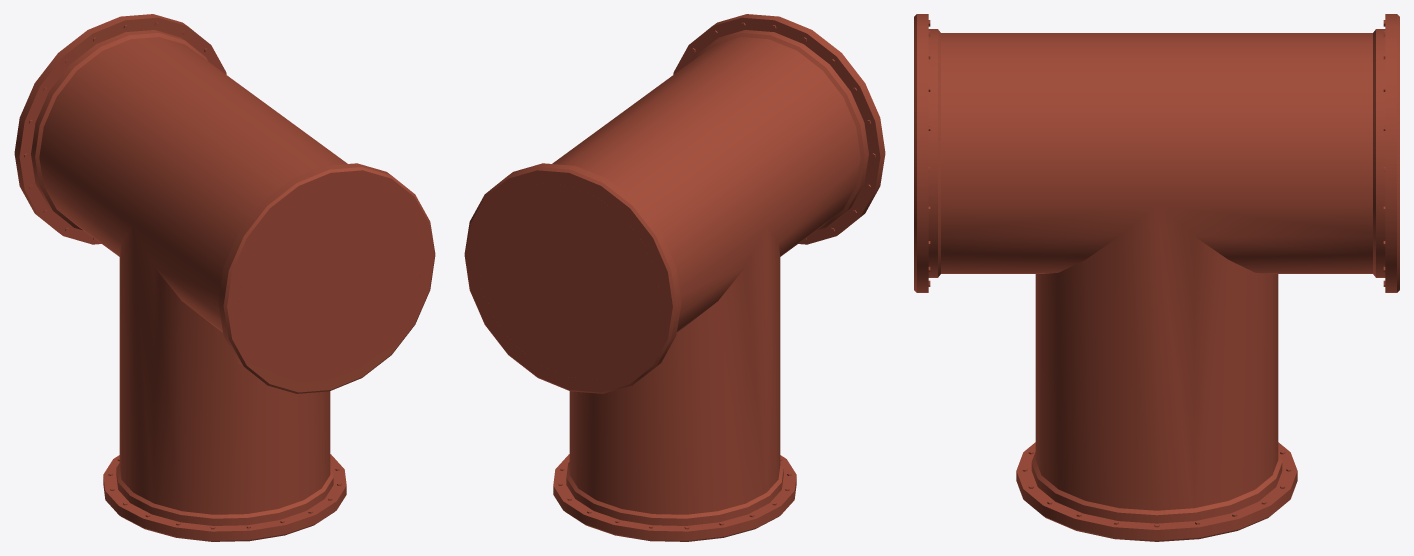
Rendered from Pipe_T.fbx.
The picture shows the model from 3 angles, left to right: view 1: azimuth 30°, elevation 25°; view 2: azimuth 150°, elevation 25°; view 3: azimuth 270°, elevation 25°; orthographic projection. The views are drawn at different scales.
Parts seen in each view (by area): view 1: Pipe_T2; view 2: Pipe_T2; view 3: Pipe_T2.
Boxes of the visible parts, x1,y1,x2,y2 form: Pipe_T2: [14, 14, 435, 541]; Pipe_T2: [464, 14, 885, 541]; Pipe_T2: [914, 14, 1399, 541].
Bounding box in the file's own units: 0.5785 × 1.04 × 1.
